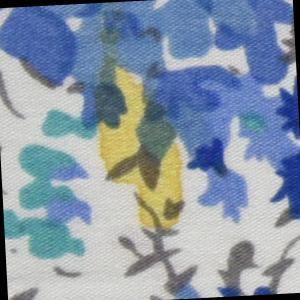Oil Stain: (85, 6, 191, 241)
